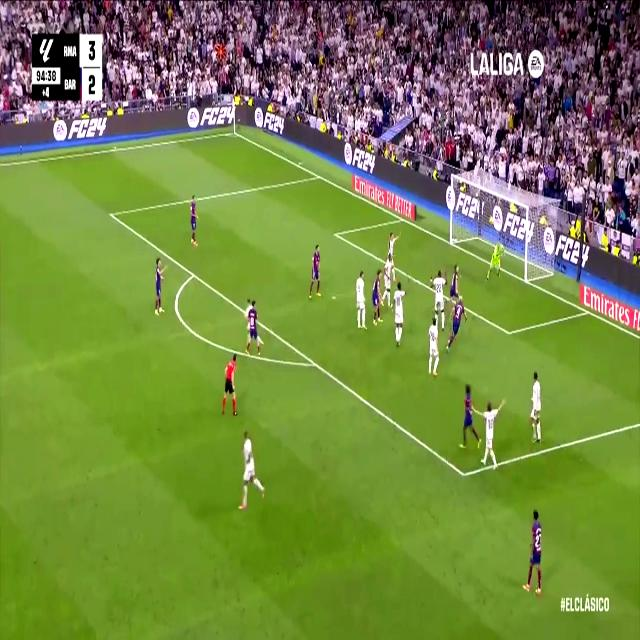bigarea_bottom_inner: (459, 463, 468, 486)
bigarea_top_inner: (106, 204, 116, 223)
bigarea_top_outter: (314, 168, 322, 182)
bottom_arc_area_intersection: (309, 351, 320, 374)
corner: (229, 126, 239, 139)
smallarea_top_inner: (330, 225, 340, 242)
top_arc_area_intersection: (189, 265, 198, 283)
